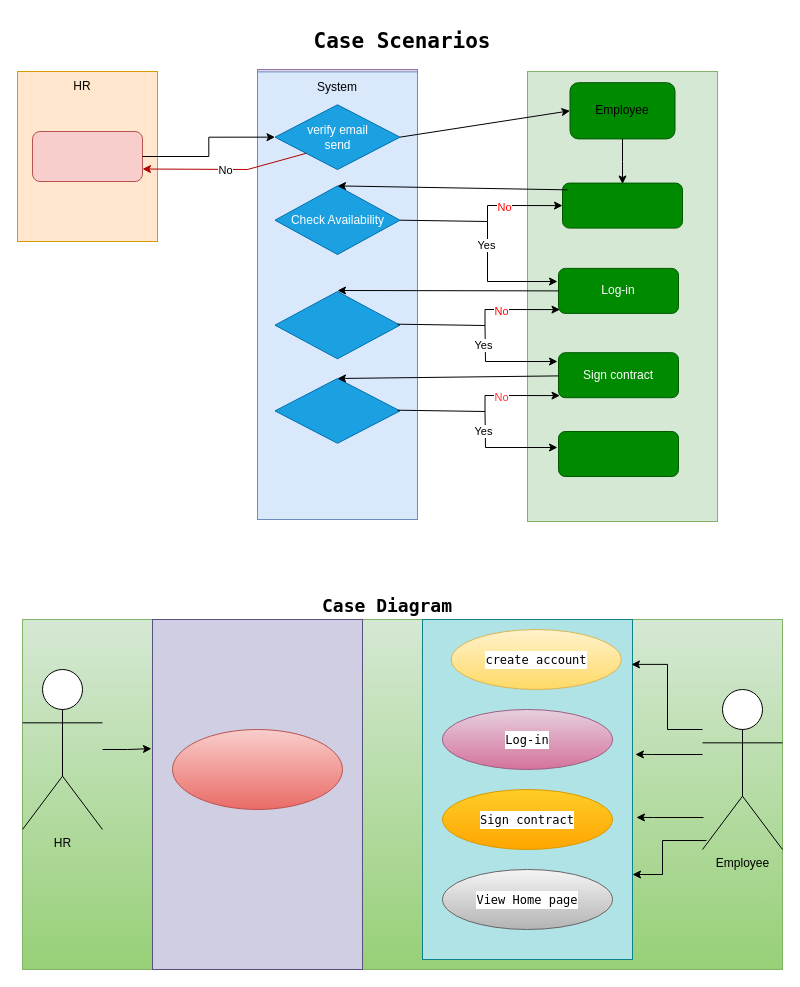
Some shapes in this 800 by 987 pixel diagram are drawn without their labels. The shapes that lost their labels are listed below. From the top down, each one's centre as x and y in pixels, then its label:
the point at 87,156: Send e-mail
the point at 622,205: Register Account
the point at 337,324: Verify authentication
the point at 337,410: Verify contract signed
the point at 618,453: Home page
the point at 257,769: Send Email
